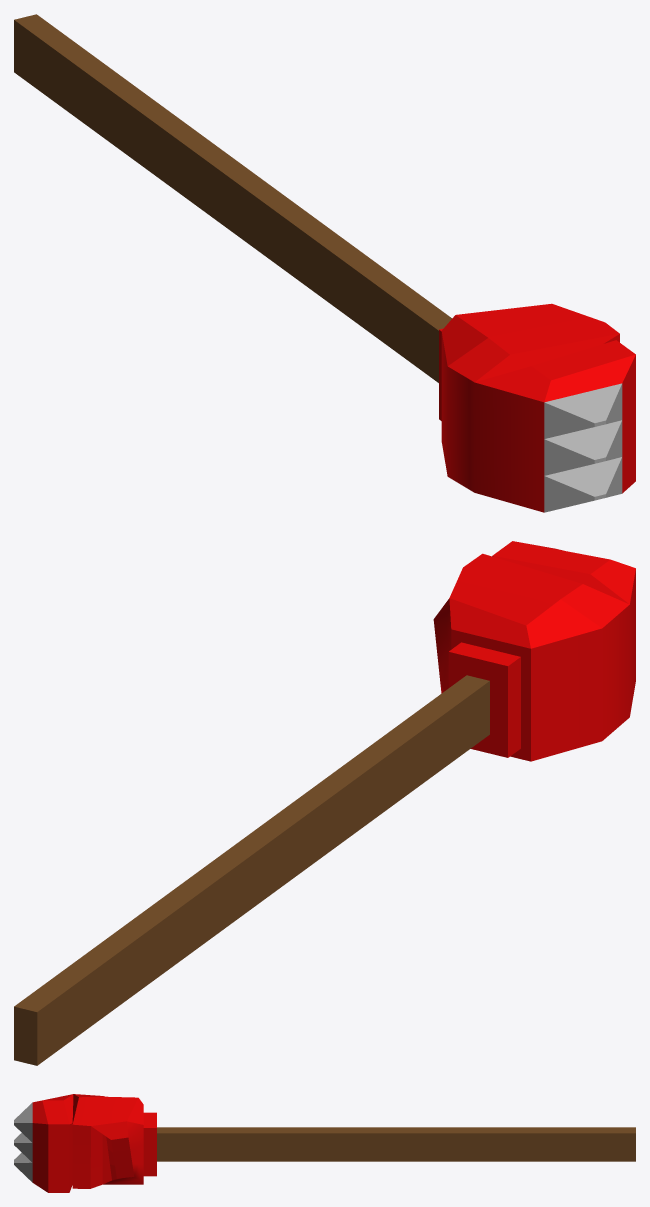
File: PunchingGlove.FBX
3 views of the same model, one above another, from view 1: azimuth 30°, elevation 25°; view 2: azimuth 150°, elevation 25°; view 3: azimuth 270°, elevation 25° (orthographic). The views are drawn at different scales.
Parts seen in each view (by area): view 1: Box002; view 2: Box002; view 3: Box002.
Boxes of the visible parts, left/top/right/bottom form: Box002: left=14, top=14, right=635, bottom=512; Box002: left=14, top=541, right=635, bottom=1065; Box002: left=14, top=1094, right=635, bottom=1192.
Size of the model in its own units: 7.75 by 6.58 by 52.53.
